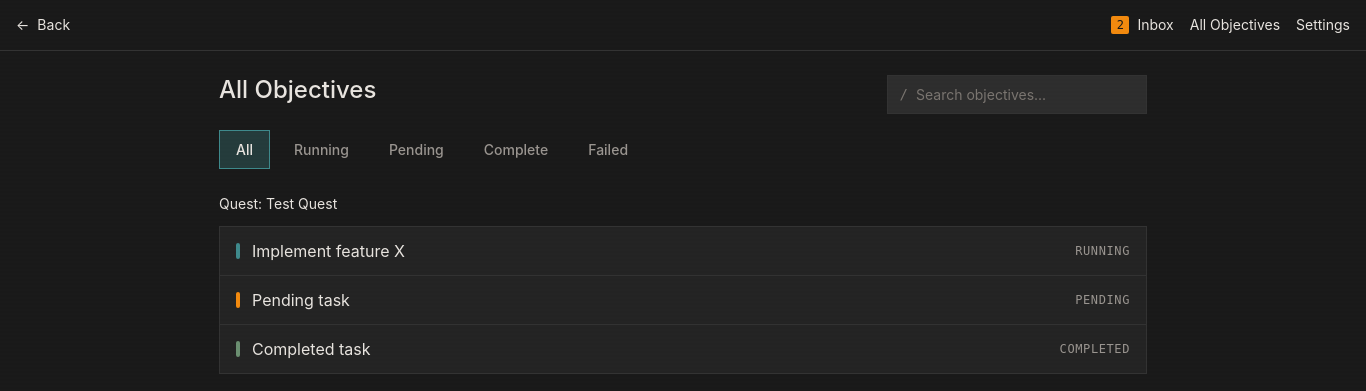
it: AllObjectives › filtering › filters to completed tasks
The width and height of the screenshot is (1366, 391).
Expected: the text "Completed task" is shown, [252,339,370,359]
Click the button "Complete": (516, 150) [468,130,564,169]
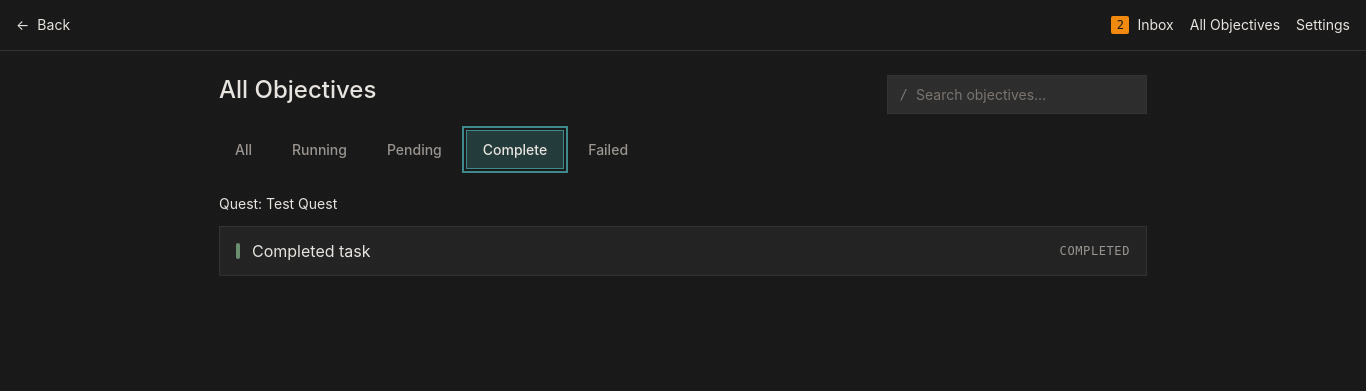
Expected: the text "Completed task" is shown, [252,241,370,261]
Expected: the link "Implement feature X" is gone
Expected: the link "Pending task" is gone
